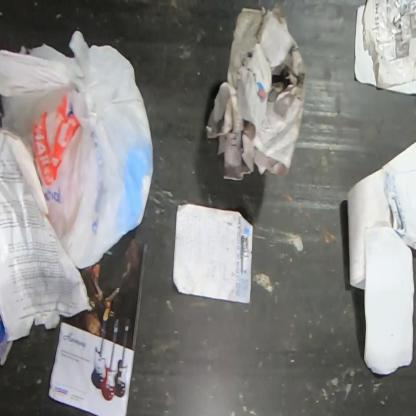soft_plastic: (0, 30, 154, 269)
